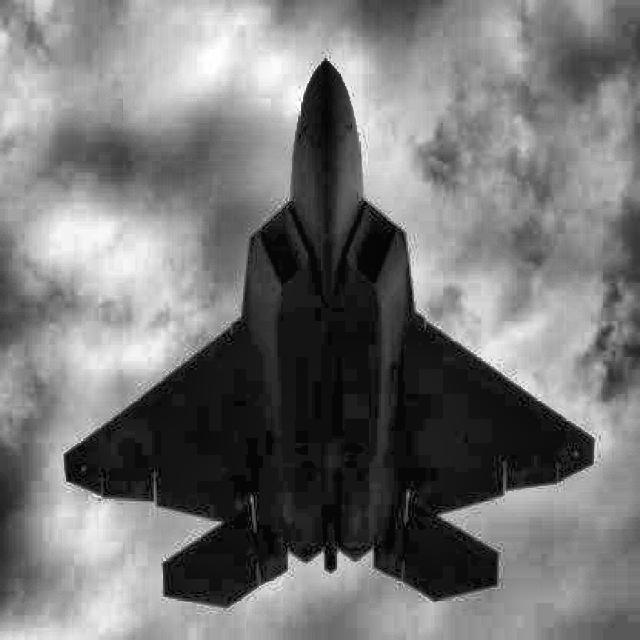F22: (63, 58, 594, 608)
